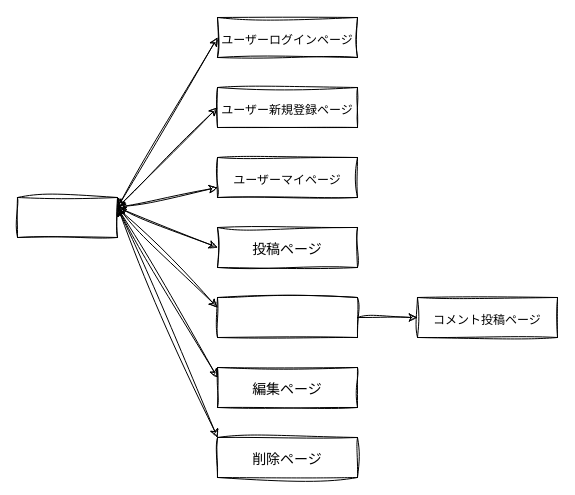
The diagram is 575 pixels wide and 495 high, and some of its shapes have lost their labels. The shapes that lost their labels are listed below. From the top down, each one's centre as x and y in pixels, then its label:
At (67,217): "一覧ページ".
At (287,317): "詳細ページ".
